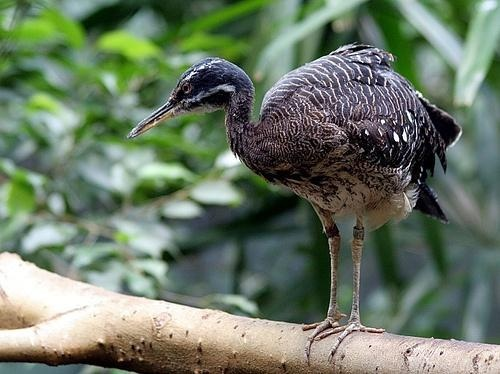bird: (124, 43, 462, 367)
